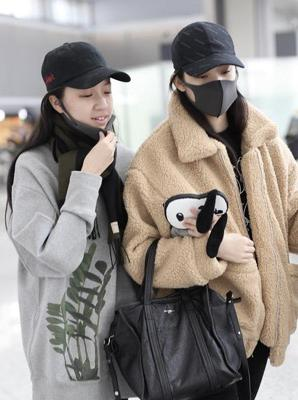mask_weared_incorrect: (59, 77, 113, 134)
with_mask: (183, 67, 238, 117)
